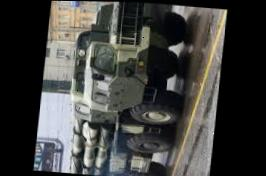rszo: (52, 1, 192, 176)
